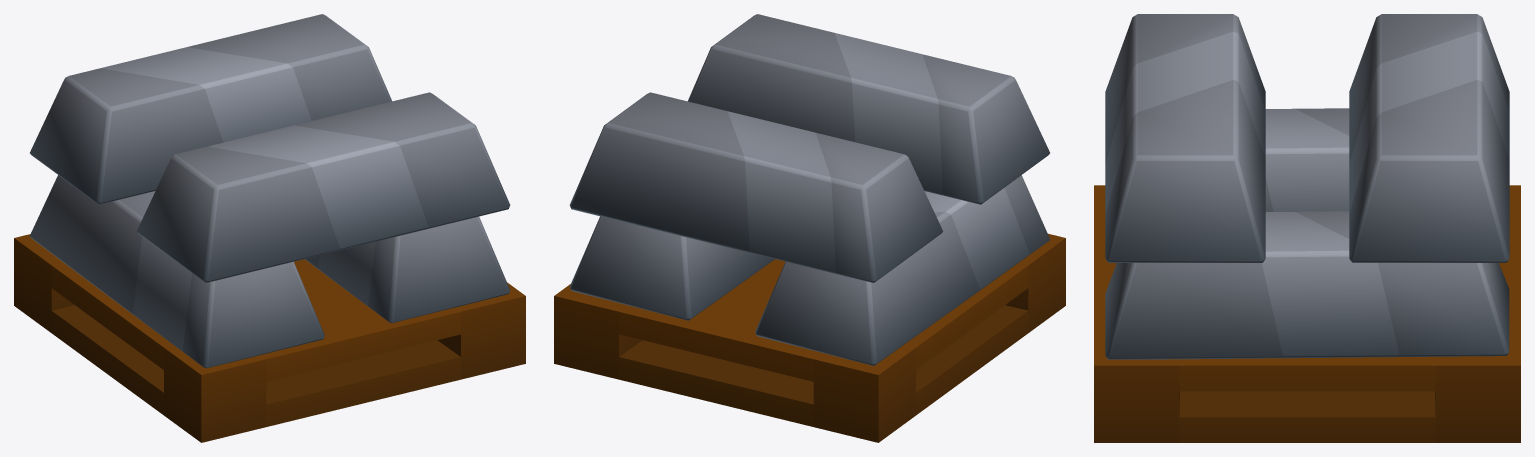
The model's file is Ingot_Iron_3.glb.
3 views of the same model, side by side, from view 1: azimuth 30°, elevation 25°; view 2: azimuth 150°, elevation 25°; view 3: azimuth 270°, elevation 25° (orthographic). The views are drawn at different scales.
Visible parts, largest first — view 1: Ingot_Iron_3; view 2: Ingot_Iron_3; view 3: Ingot_Iron_3.
Part boxes in pixels (x1=…): Ingot_Iron_3: x1=14, y1=14, x2=525, y2=442; Ingot_Iron_3: x1=554, y1=14, x2=1065, y2=442; Ingot_Iron_3: x1=1094, y1=14, x2=1520, y2=442.
Size of the model in its own units: 1.05 by 0.728 by 1.05.
